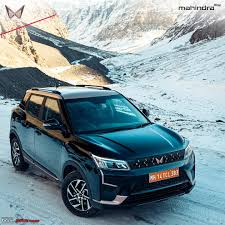XUV 400: (7, 81, 197, 220)
